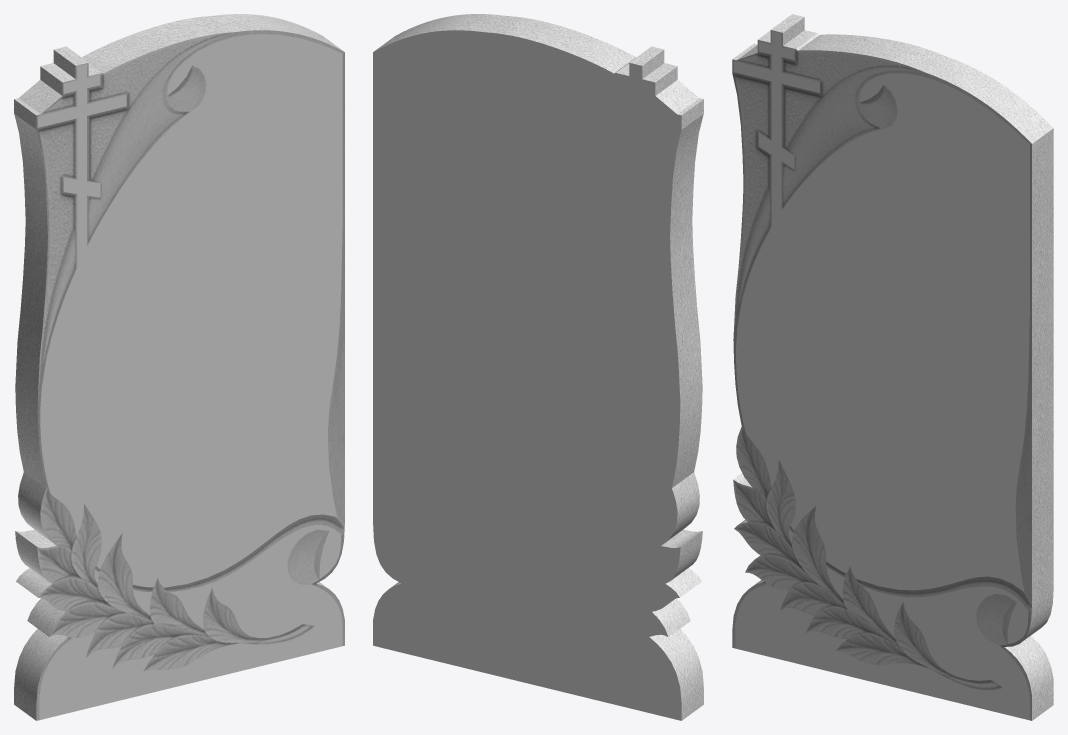
The model's file is cne83df9ee4f_tkf.glb.
3 renders of one model, left to right at view 1: azimuth 30°, elevation 25°; view 2: azimuth 150°, elevation 25°; view 3: azimuth 330°, elevation 25°, orthographic. The views are drawn at different scales.
Parts seen in each view (by area): view 1: Pam-d03-223, Pam-d03-223_2_notexture; view 2: Pam-d03-223, Pam-d03-223_2_notexture; view 3: Pam-d03-223, Pam-d03-223_2_notexture.
Part boxes in pixels (bbox=[...]): Pam-d03-223: bbox=[38, 34, 342, 720]; Pam-d03-223_2_notexture: bbox=[14, 14, 344, 720]; Pam-d03-223: bbox=[373, 30, 681, 720]; Pam-d03-223_2_notexture: bbox=[374, 14, 703, 720]; Pam-d03-223: bbox=[733, 32, 1029, 720]; Pam-d03-223_2_notexture: bbox=[732, 14, 1053, 720].
Bounding box in the file's own units: 0.4 × 0.8 × 0.05.
1 material, 1 textured.
